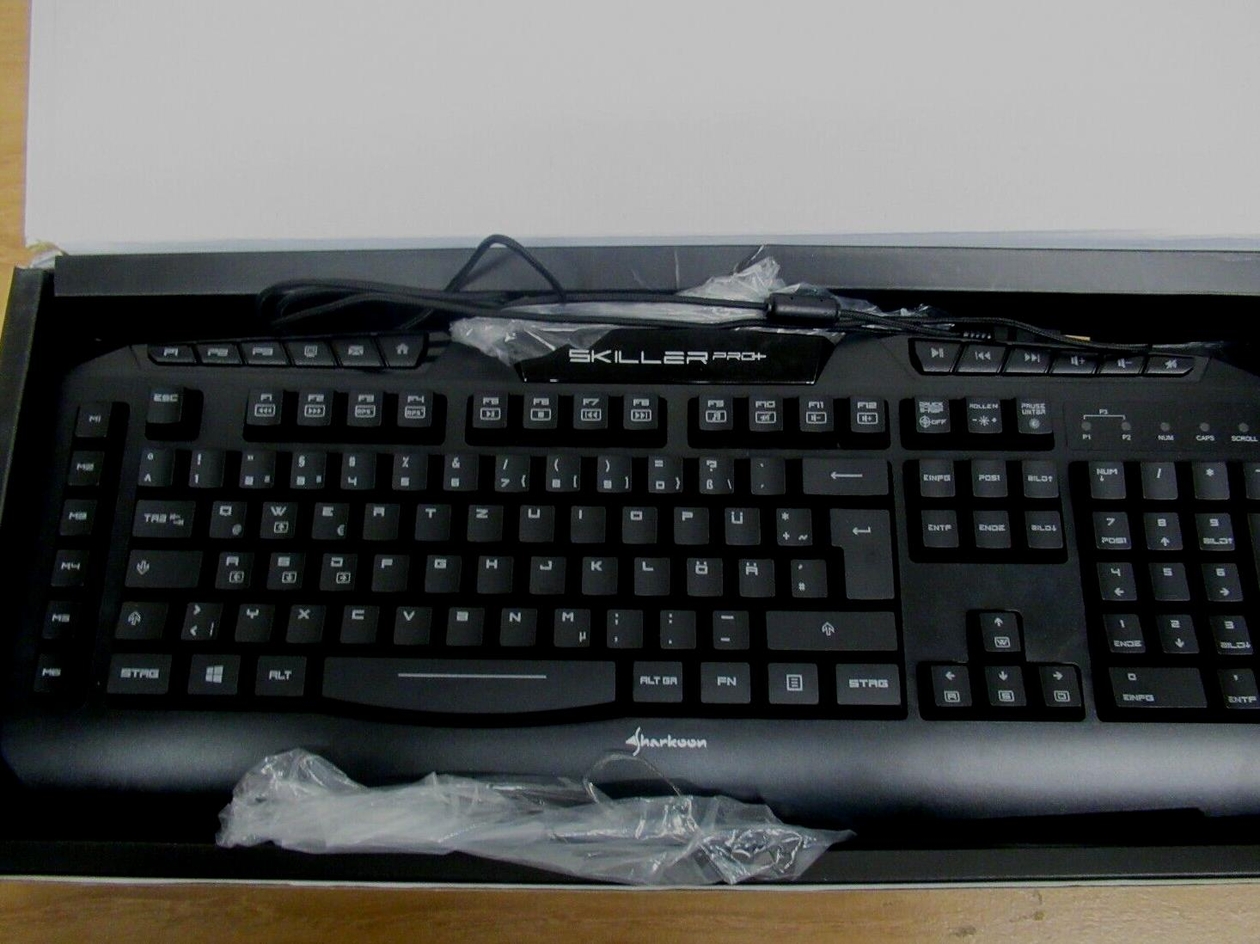0: (641, 449, 681, 492)
1: (182, 444, 223, 486)
2: (233, 444, 274, 487)
3: (284, 443, 324, 488)
4: (335, 442, 375, 489)
5: (386, 443, 426, 490)
6: (437, 445, 478, 490)
7: (488, 444, 528, 491)
8: (539, 444, 578, 491)
9: (590, 444, 629, 491)
a: (210, 544, 253, 589)
accent: (744, 448, 783, 493)
ae: (733, 553, 774, 596)
alt-left: (248, 649, 306, 695)
altgr-right: (626, 654, 682, 701)
b: (441, 601, 483, 644)
c: (335, 598, 378, 641)
caret: (133, 441, 172, 485)
comma: (600, 603, 640, 647)
d: (315, 547, 356, 590)
del: (797, 451, 885, 493)
e: (306, 495, 347, 538)
enter: (826, 503, 892, 598)
f: (367, 549, 407, 590)
g: (420, 549, 460, 591)
h: (472, 549, 511, 592)
hash: (785, 553, 824, 596)
i: (566, 500, 603, 541)
j: (525, 549, 565, 592)
k: (577, 550, 616, 593)
keyboard: (5, 359, 1260, 735)
l: (629, 551, 669, 593)
less: (175, 595, 220, 640)
m: (547, 602, 589, 646)
minus: (706, 604, 748, 647)
n: (494, 601, 535, 645)
o: (616, 500, 656, 542)
oe: (682, 552, 722, 594)
p: (669, 501, 707, 542)
plus: (770, 501, 810, 545)
point: (653, 604, 694, 647)
q: (204, 494, 245, 536)
r: (358, 497, 398, 538)
s: (262, 546, 303, 589)
shift-left: (108, 596, 166, 640)
shift-lock: (120, 544, 200, 587)
shift-right: (762, 605, 896, 649)
space: (315, 652, 618, 715)
ss: (693, 447, 732, 493)
strg-left: (101, 647, 173, 695)
strg-right: (829, 657, 902, 704)
t: (410, 497, 449, 539)
tab: (127, 493, 195, 537)
u: (514, 499, 554, 541)
ue: (719, 501, 759, 544)
v: (388, 600, 430, 643)
w: (255, 494, 296, 538)
x: (282, 598, 324, 641)
y: (229, 597, 272, 641)
z: (462, 498, 502, 540)
